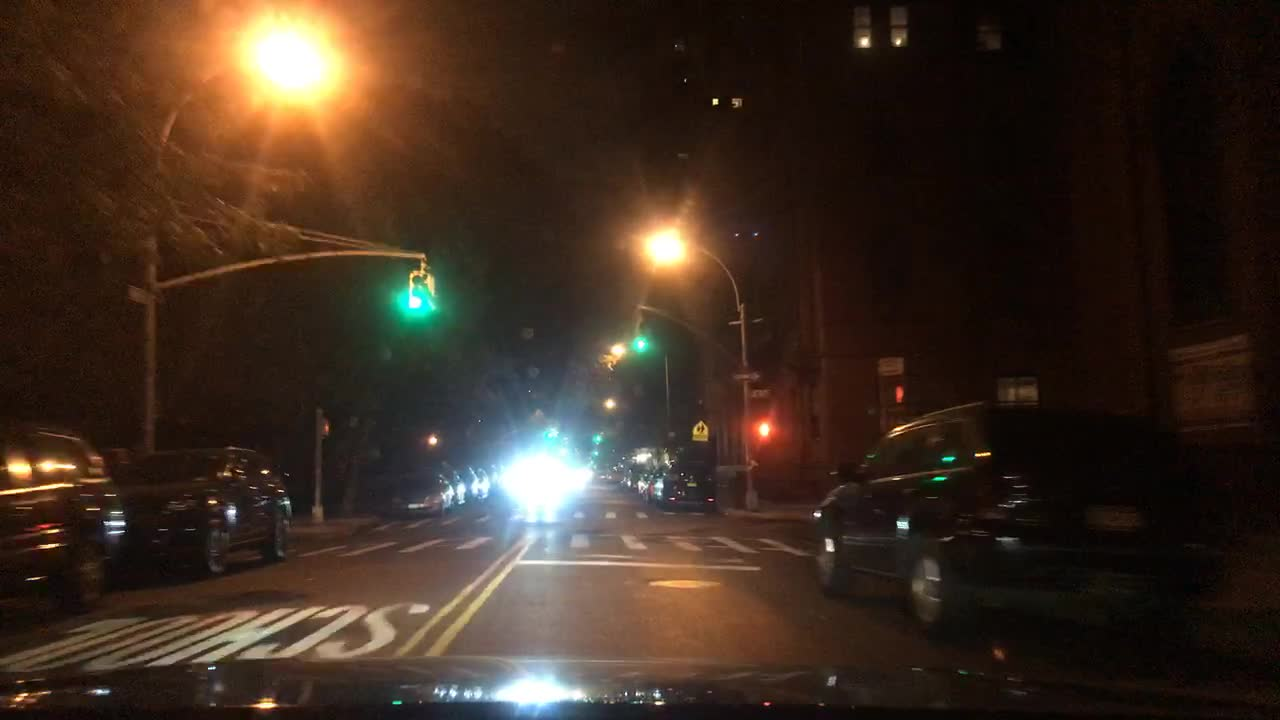car: (812, 401, 1234, 651), (106, 447, 294, 581), (0, 419, 127, 615), (388, 471, 454, 522), (499, 451, 566, 500), (652, 461, 717, 511), (421, 462, 466, 505), (441, 462, 477, 506), (637, 459, 671, 499), (626, 457, 655, 495), (475, 462, 489, 501), (592, 465, 611, 486), (607, 466, 626, 486)
traffic light: (410, 267, 426, 311), (632, 319, 650, 351), (425, 270, 436, 313), (892, 381, 905, 406), (757, 421, 772, 440), (591, 431, 606, 446), (320, 417, 331, 436)
traffic sign: (1172, 328, 1260, 442), (998, 375, 1041, 411), (732, 366, 761, 381), (879, 356, 902, 373), (127, 285, 147, 304), (747, 386, 771, 401), (692, 421, 708, 441), (727, 316, 743, 329), (749, 314, 763, 328)
